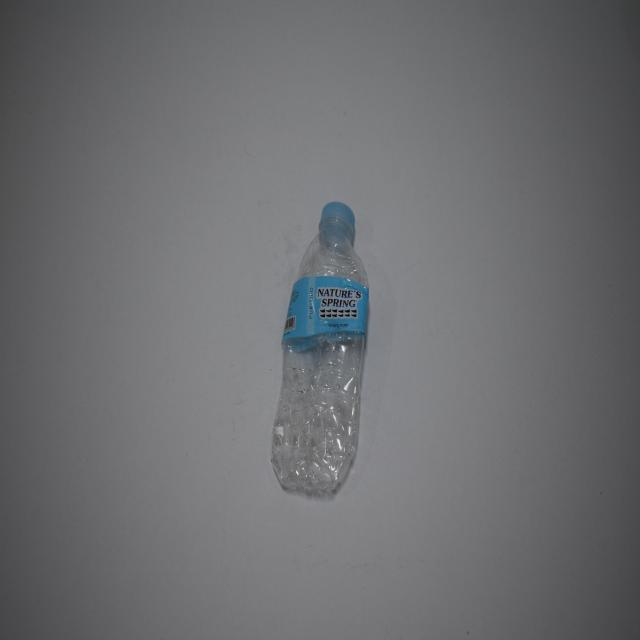empty: (271, 202, 368, 492)
